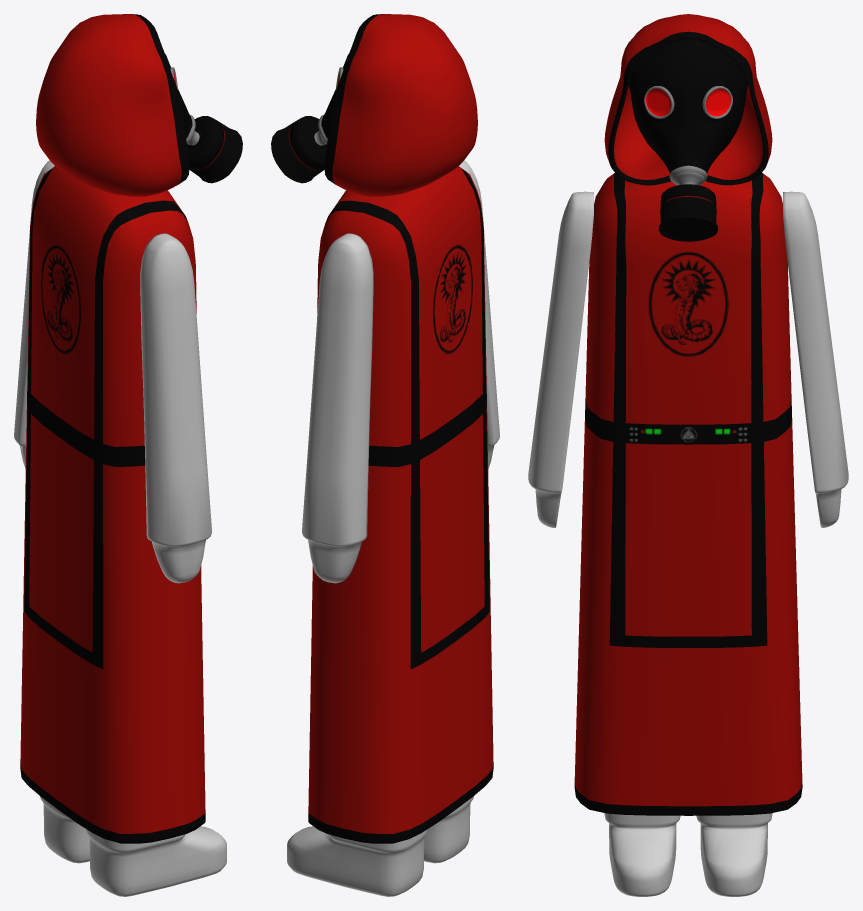
The model's file is Cultist.fbx.
The picture shows the model from 3 angles, left to right: view 1: azimuth 30°, elevation 25°; view 2: azimuth 150°, elevation 25°; view 3: azimuth 270°, elevation 25°; orthographic projection.
Visible parts, largest first — view 1: Retopo_bodyRobe, Retopo_Hood, Retopo_armRight_SleveLong, Retopo_legRight, Retopo_GasMask, Retopo_legLeft, Retopo_armLeft_SleveLong; view 2: Retopo_bodyRobe, Retopo_Hood, Retopo_armLeft_SleveLong, Retopo_legLeft, Retopo_GasMask, Retopo_legRight, Retopo_armRight_SleveLong; view 3: Retopo_bodyRobe, Retopo_GasMask, Retopo_Hood, Retopo_armRight_SleveLong, Retopo_armLeft_SleveLong, Retopo_legLeft, Retopo_legRight.
Part boxes in pixels (x1=…): Retopo_bodyRobe: x1=20, y1=166, x2=205, y2=843; Retopo_Hood: x1=36, y1=14, x2=189, y2=196; Retopo_armRight_SleveLong: x1=140, y1=233, x2=211, y2=583; Retopo_legRight: x1=86, y1=826, x2=226, y2=896; Retopo_GasMask: x1=165, y1=54, x2=242, y2=183; Retopo_legLeft: x1=40, y1=796, x2=89, y2=863; Retopo_armLeft_SleveLong: x1=14, y1=160, x2=54, y2=468; Retopo_bodyRobe: x1=308, y1=166, x2=493, y2=843; Retopo_Hood: x1=324, y1=14, x2=477, y2=196; Retopo_armLeft_SleveLong: x1=302, y1=233, x2=373, y2=583; Retopo_legLeft: x1=287, y1=826, x2=427, y2=896; Retopo_GasMask: x1=271, y1=54, x2=348, y2=183; Retopo_legRight: x1=424, y1=796, x2=473, y2=863; Retopo_armRight_SleveLong: x1=459, y1=160, x2=499, y2=468; Retopo_bodyRobe: x1=574, y1=173, x2=802, y2=815; Retopo_GasMask: x1=629, y1=39, x2=747, y2=241; Retopo_Hood: x1=604, y1=14, x2=772, y2=185; Retopo_armRight_SleveLong: x1=528, y1=191, x2=593, y2=527; Retopo_armLeft_SleveLong: x1=783, y1=191, x2=848, y2=527; Retopo_legLeft: x1=696, y1=813, x2=772, y2=896; Retopo_legRight: x1=604, y1=813, x2=680, y2=896.
Bounding box in the file's own units: 41.19 × 174 × 60.21.
